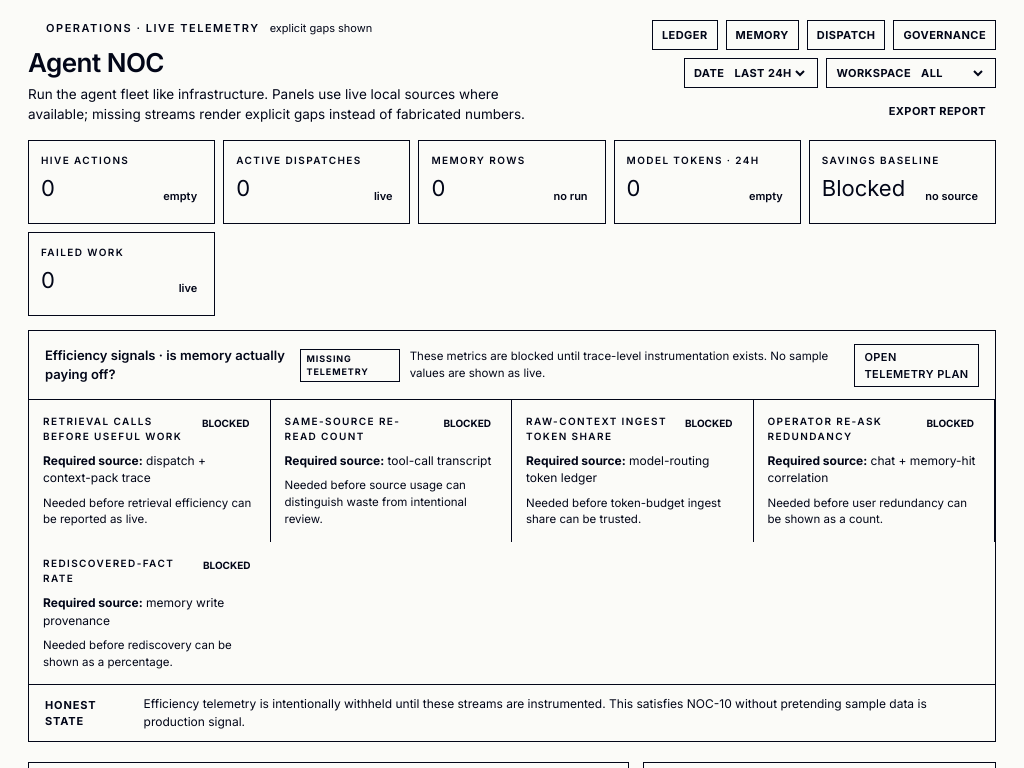
it: OperationsNoc › applies the date range filter to live-backed NOC panels
This screenshot has width=1024, height=768.
Select "Last 30d" in the dropdown named "noc date range". click: coordinates (769, 73)
box: [730,65,808,81]
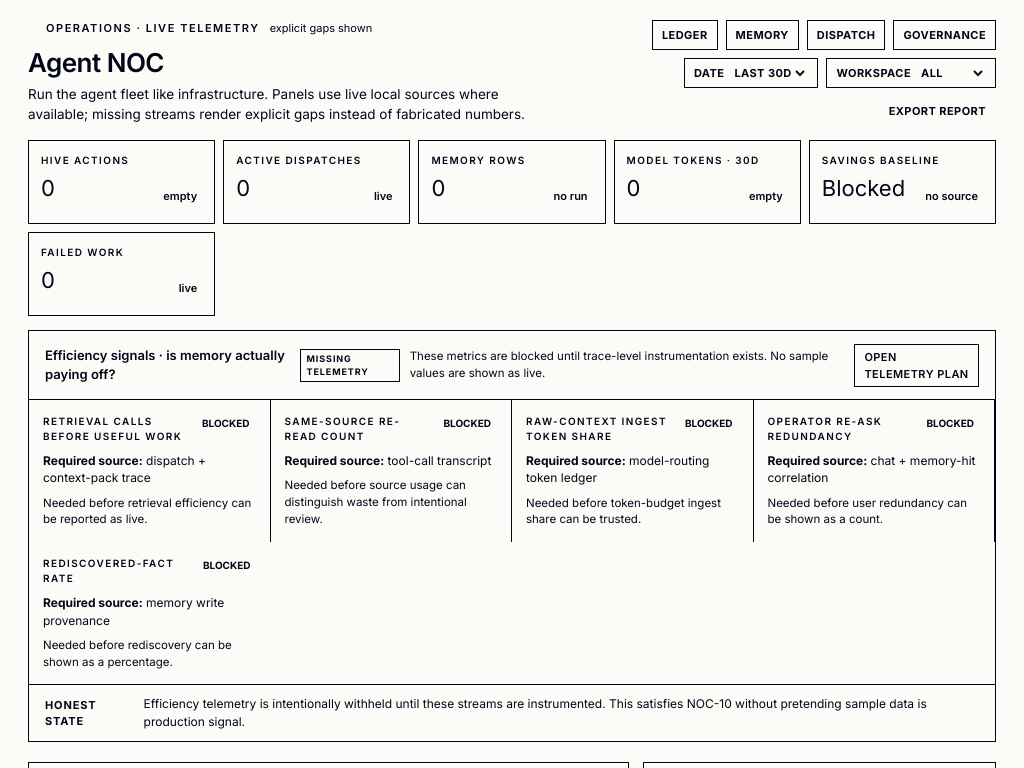
expect the text "Model tokens · 30d" is shown: met, box [627,154,760,166]
